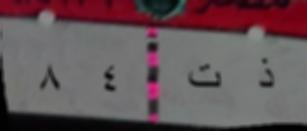4: (99, 62, 121, 98)
8: (38, 61, 62, 99)
taa: (184, 60, 226, 93)
zaal: (253, 54, 279, 96)
